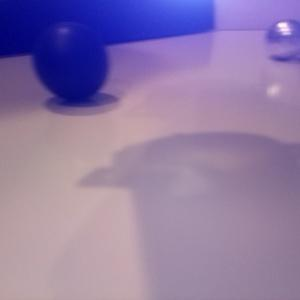alive_ball: (264, 20, 300, 60)
dead_ball: (33, 21, 109, 100)
